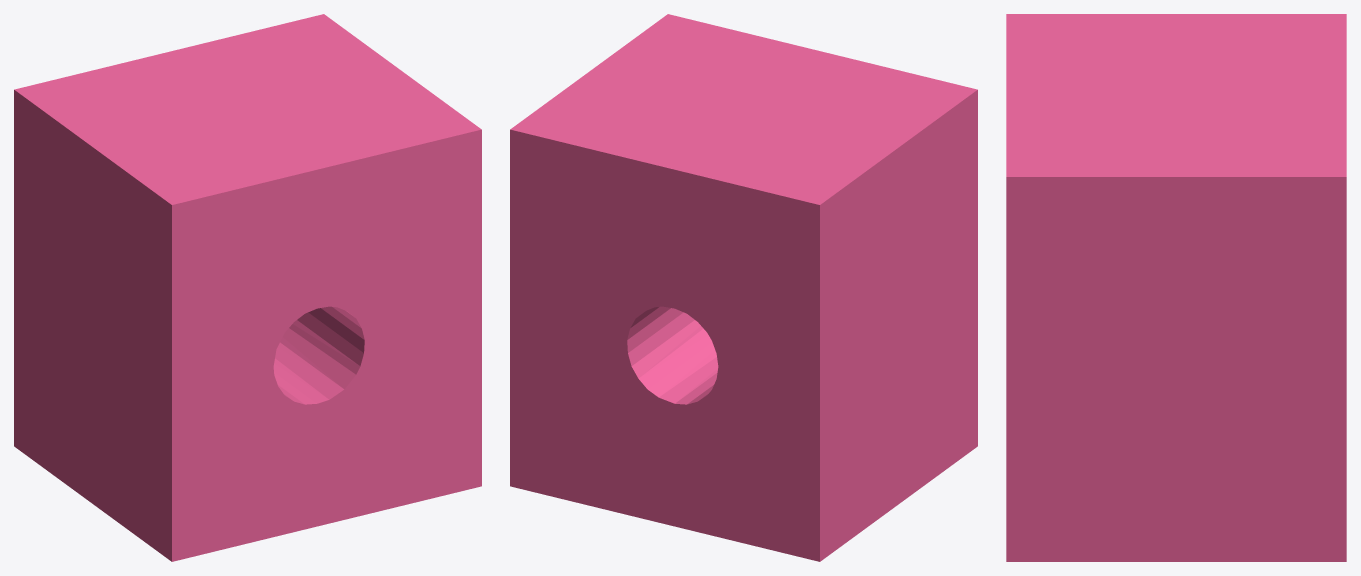
The model's file is rc motor snap.obj.
3 renders of one model, left to right at view 1: azimuth 30°, elevation 25°; view 2: azimuth 150°, elevation 25°; view 3: azimuth 270°, elevation 25°, orthographic. The views are drawn at different scales.
Parts seen in each view (by area): view 1: obj_0; view 2: obj_0; view 3: obj_0.
Boxes of the visible parts, <box> form: obj_0: <box>14,14,481,561</box>; obj_0: <box>510,14,977,561</box>; obj_0: <box>1006,14,1346,561</box>.
Bounding box in the file's own units: 7.93 × 8.73 × 7.
